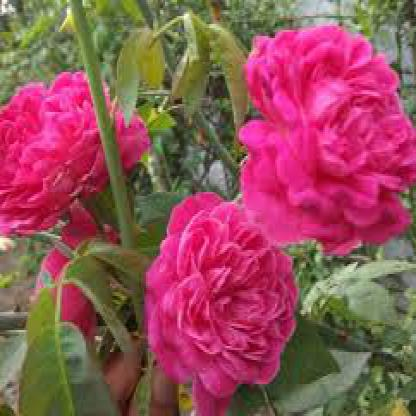Rose-Mawar: (237, 17, 416, 235), (149, 181, 303, 399), (1, 59, 153, 228)
